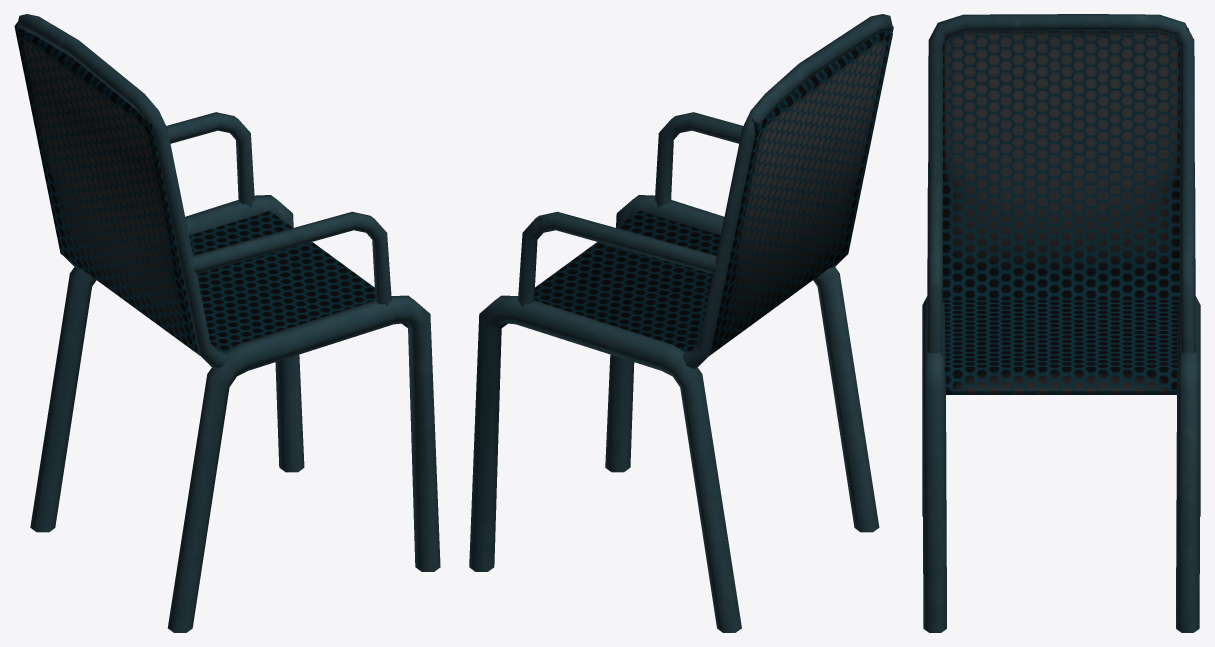
Rendered from Props_Furniture_2.fbx.
The picture shows the model from 3 angles, left to right: view 1: azimuth 30°, elevation 25°; view 2: azimuth 150°, elevation 25°; view 3: azimuth 270°, elevation 25°; orthographic projection. The views are drawn at different scales.
Visible parts, largest first — view 1: Props_Furniture_2; view 2: Props_Furniture_2; view 3: Props_Furniture_2.
Boxes of the visible parts, x1=… form: Props_Furniture_2: x1=14, y1=14, x2=440, y2=632; Props_Furniture_2: x1=469, y1=14, x2=893, y2=632; Props_Furniture_2: x1=922, y1=14, x2=1200, y2=632.
Bounding box in the file's own units: 114 × 201 × 103.
